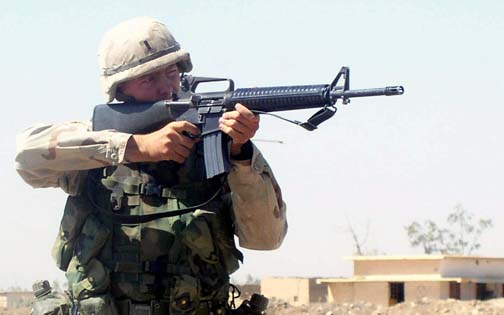Rifle: (89, 62, 406, 183)
